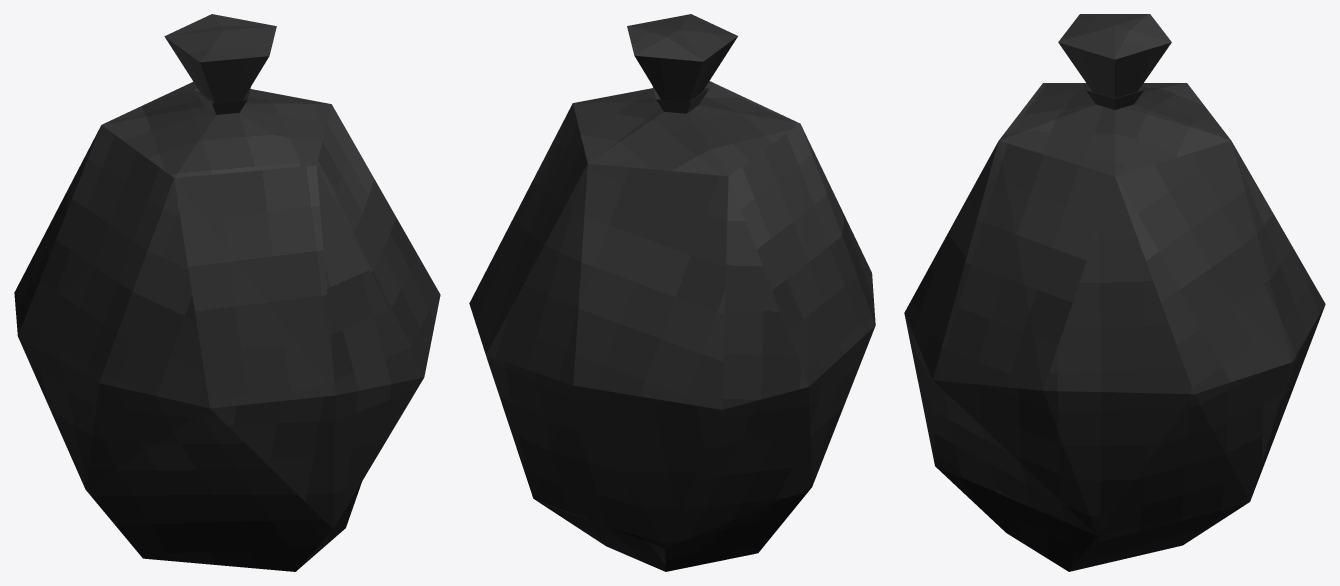
Rendered from SacoLixo.fbx.
3 renders of one model, left to right at view 1: azimuth 30°, elevation 25°; view 2: azimuth 150°, elevation 25°; view 3: azimuth 270°, elevation 25°, orthographic.
Parts seen in each view (by area): view 1: Lixo; view 2: Lixo; view 3: Lixo.
Part boxes in pixels (x1=…): Lixo: x1=14, y1=14, x2=440, y2=571; Lixo: x1=469, y1=14, x2=875, y2=571; Lixo: x1=904, y1=14, x2=1325, y2=571.
Size of the model in its own units: 55.95 by 78.02 by 59.23.
1 material, 1 textured.
